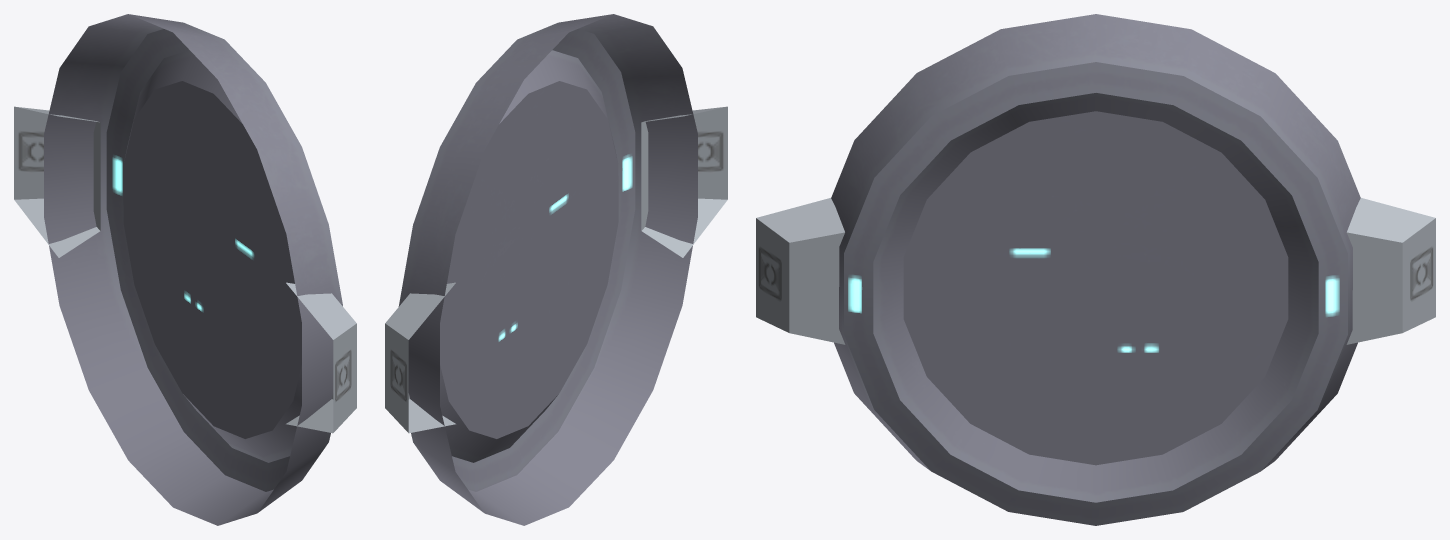
Rendered from Pfb_Soda_Instruments__3.fbx.
The picture shows the model from 3 angles, left to right: view 1: azimuth 30°, elevation 25°; view 2: azimuth 150°, elevation 25°; view 3: azimuth 270°, elevation 25°; orthographic projection. The views are drawn at different scales.
Parts seen in each view (by area): view 1: MAT_Soda_Instruments; view 2: MAT_Soda_Instruments; view 3: MAT_Soda_Instruments.
Boxes of the visible parts, x1,y1,x2,y2 form: MAT_Soda_Instruments: (14,14,356,525); MAT_Soda_Instruments: (385,14,727,525); MAT_Soda_Instruments: (756,14,1435,525).
Size of the model in its own units: 0.2263 by 1.72 by 2.09.
Materials: 1 (1 with a texture image).
